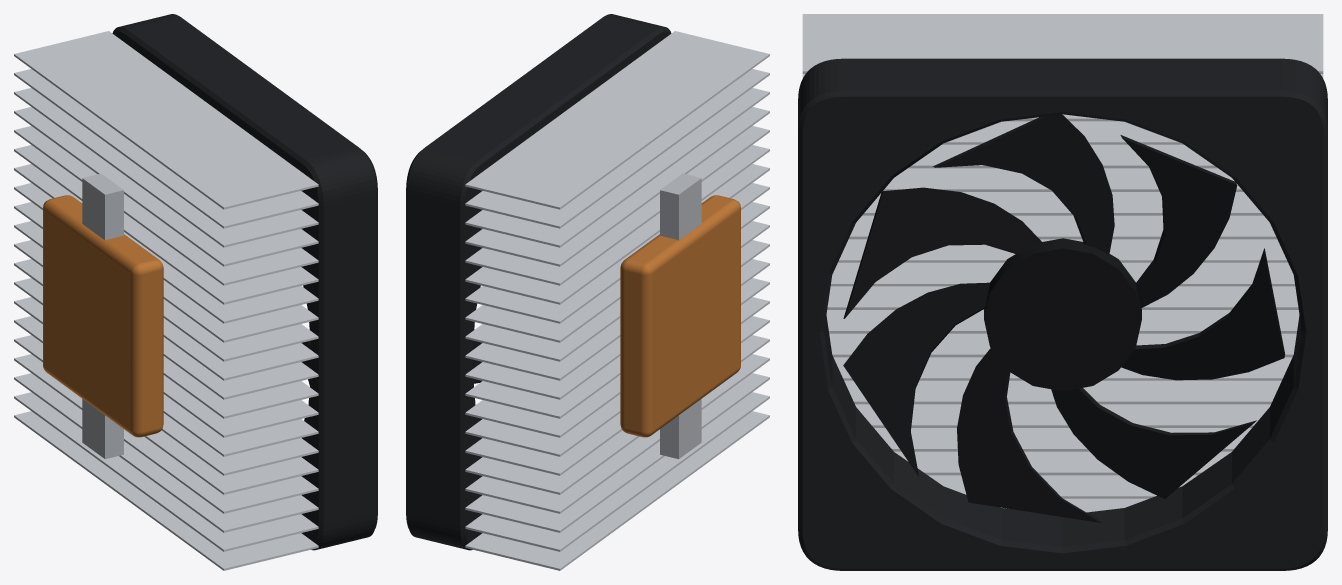
File: cooler-low-profile-v1.lod1.glb
3 renders of one model, left to right at view 1: azimuth 30°, elevation 25°; view 2: azimuth 150°, elevation 25°; view 3: azimuth 270°, elevation 25°, orthographic. The views are drawn at different scales.
Parts seen in each view (by area): view 1: fin_stack_0__mesh, fan_0__mesh, base__mesh; view 2: fin_stack_0__mesh, fan_0__mesh, base__mesh; view 3: fan_0__mesh, fin_stack_0__mesh.
Boxes of the visible parts, left/top/right/bottom form: fin_stack_0__mesh: left=14, top=31, right=318, bottom=570; fan_0__mesh: left=112, top=14, right=377, bottom=550; base__mesh: left=43, top=173, right=163, bottom=459; fin_stack_0__mesh: left=465, top=31, right=769, bottom=570; fan_0__mesh: left=406, top=14, right=671, bottom=550; base__mesh: left=620, top=173, right=740, bottom=459; fan_0__mesh: left=798, top=58, right=1327, bottom=570; fin_stack_0__mesh: left=802, top=14, right=1323, bottom=512.
Size of the model in its own units: 0.047 by 0.0936 by 0.0936.
